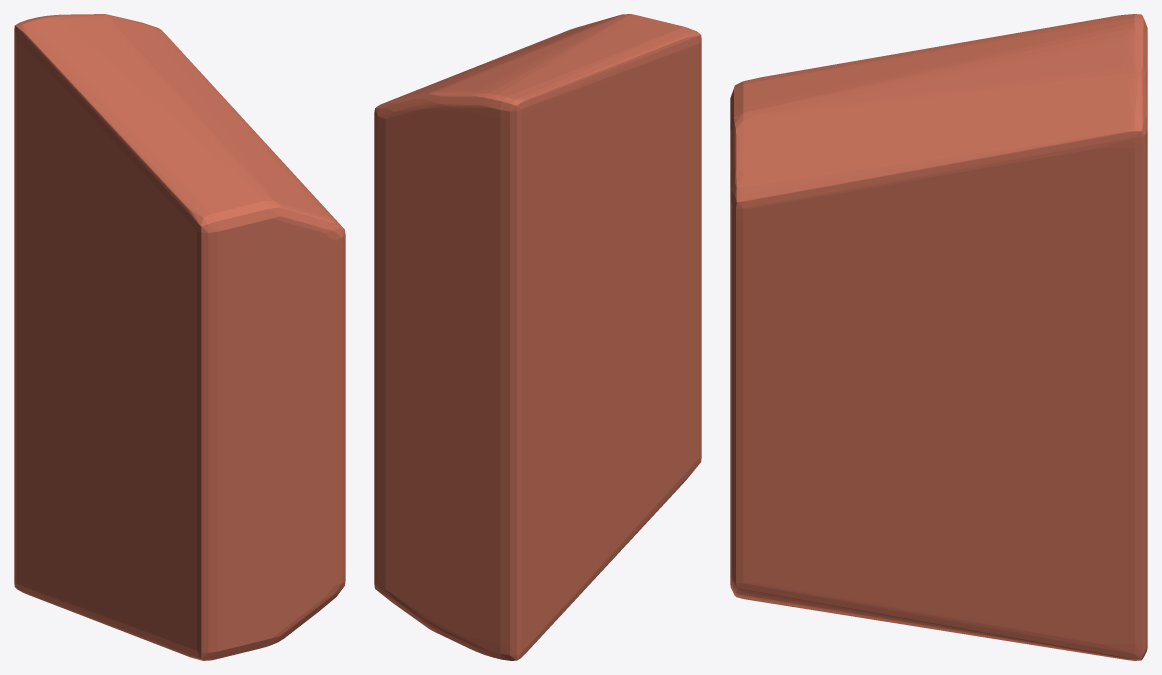
File: right_th_proximal_part_9.obj
The picture shows the model from 3 angles, left to right: view 1: azimuth 30°, elevation 25°; view 2: azimuth 150°, elevation 25°; view 3: azimuth 270°, elevation 25°; orthographic projection. The views are drawn at different scales.
Bounding box in the file's own units: 6.88 × 25.55 × 15.67.
